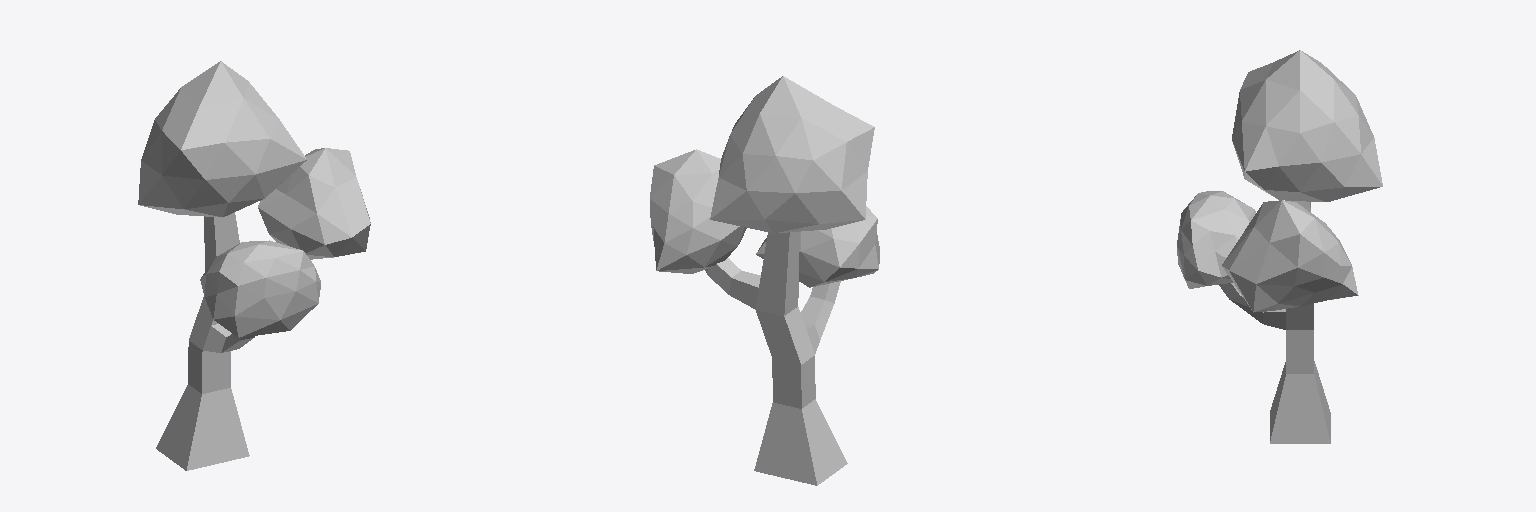
The model's file is Tree_1.obj.
3 views of the same model, side by side, from view 1: azimuth 30°, elevation 25°; view 2: azimuth 150°, elevation 25°; view 3: azimuth 270°, elevation 25° (orthographic).
Visible parts, largest first — view 1: Cube_Cube.001; view 2: Cube_Cube.001; view 3: Cube_Cube.001.
Part boxes in pixels (x1,y1,x2,y2): Cube_Cube.001: (138,61,370,470); Cube_Cube.001: (650,76,879,485); Cube_Cube.001: (1177,50,1382,443).
Size of the model in its own units: 1.33 by 2.29 by 1.1.